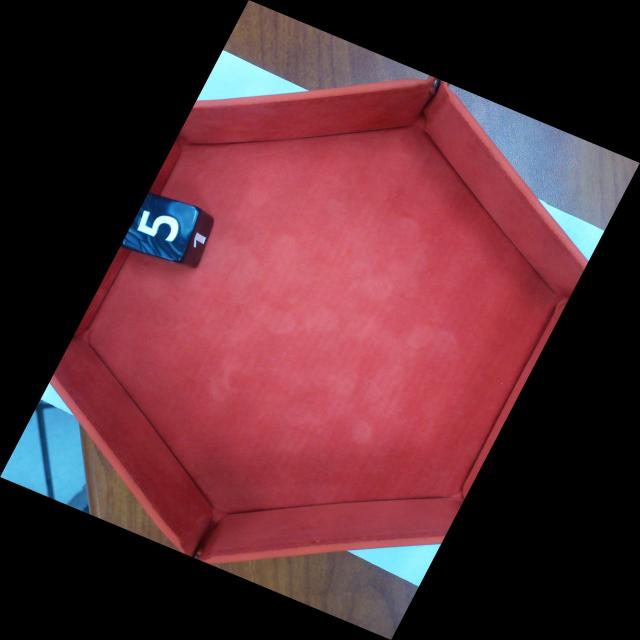dice: (126, 192, 202, 265)
